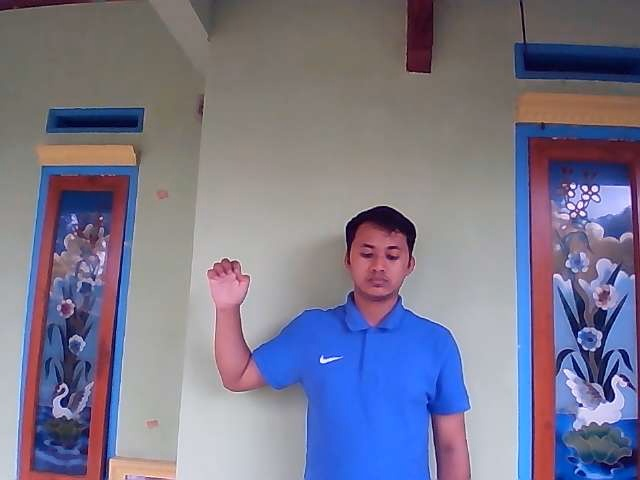E: (206, 258, 252, 310)
